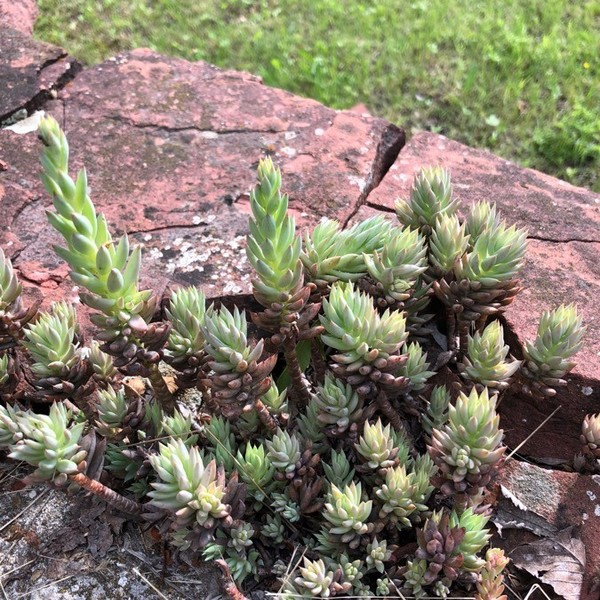obstacle: (30, 118, 534, 590)
